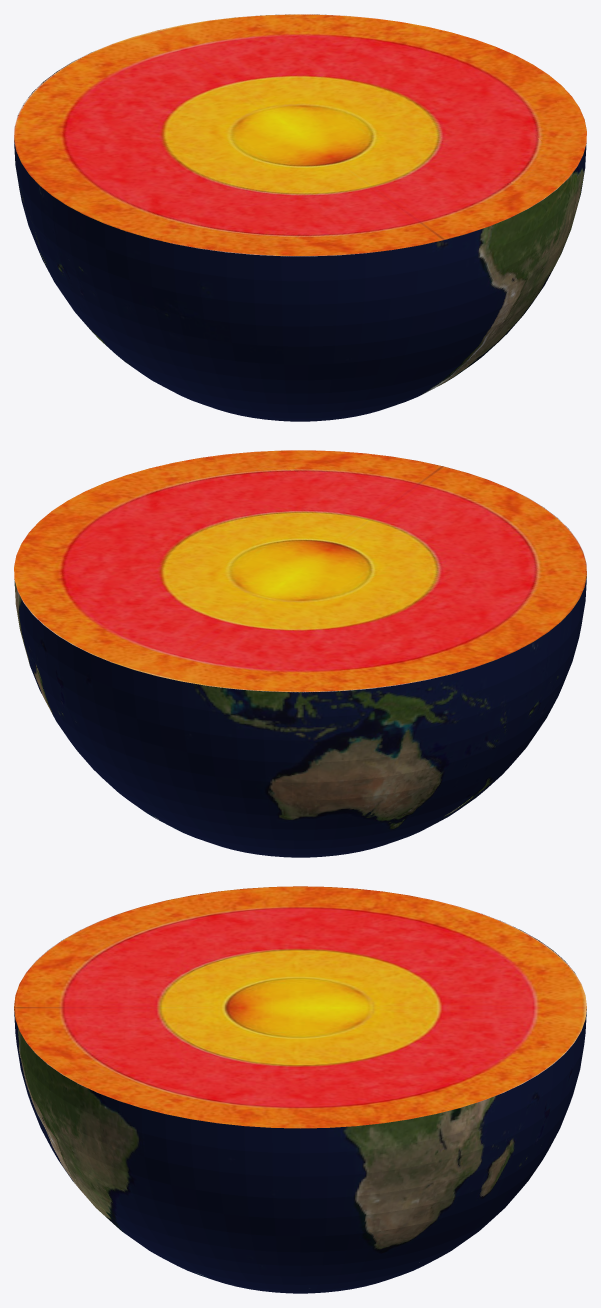
Rendered from 0_Hemi_sul.glb.
The picture shows the model from 3 angles, top to bottom: view 1: azimuth 30°, elevation 25°; view 2: azimuth 150°, elevation 25°; view 3: azimuth 270°, elevation 25°; orthographic projection.
Visible parts, largest first — view 1: Hemi_sul; view 2: Hemi_sul; view 3: Hemi_sul.
Part boxes in pixels (x1,y1,x2,y2): Hemi_sul: [14, 14, 586, 421]; Hemi_sul: [14, 450, 586, 857]; Hemi_sul: [14, 886, 586, 1293].
Size of the model in its own units: 10 by 5 by 10.
Materials: 2 (2 with a texture image).
